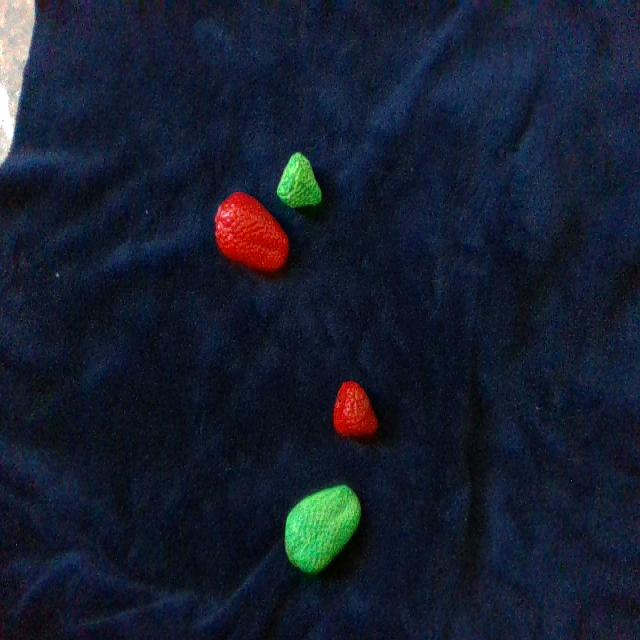chica_roja: (333, 383, 377, 437)
grande_roja: (215, 192, 287, 271)
verde: (285, 485, 360, 573), (277, 153, 321, 208)
